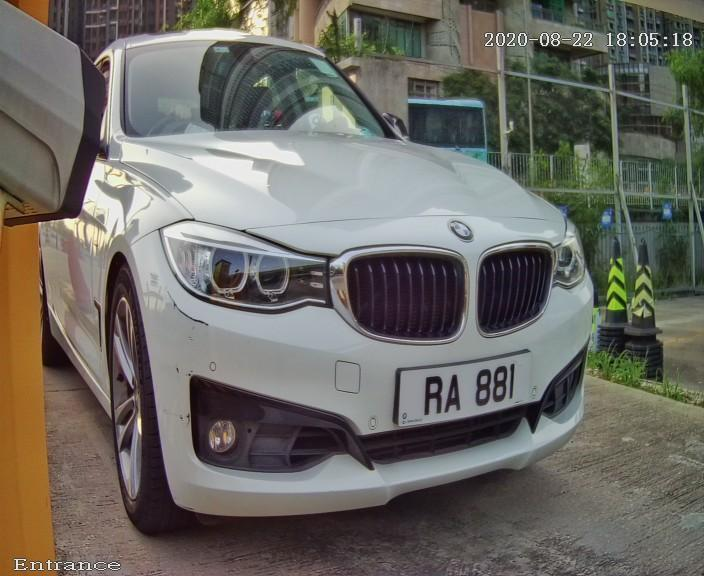Car: (32, 3, 642, 561)
License Plate: (370, 320, 564, 451)
